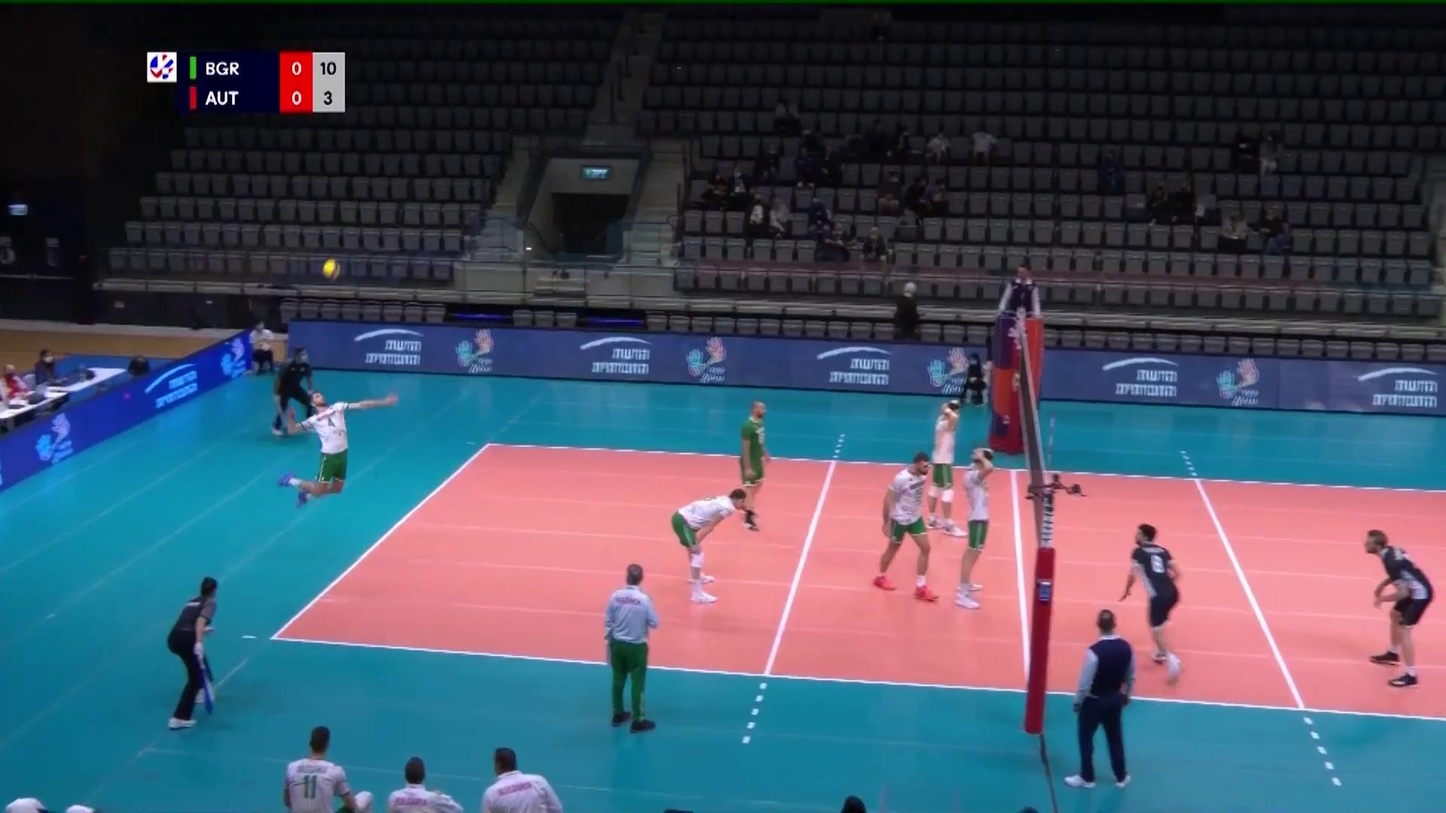ball: (320, 257, 342, 280)
